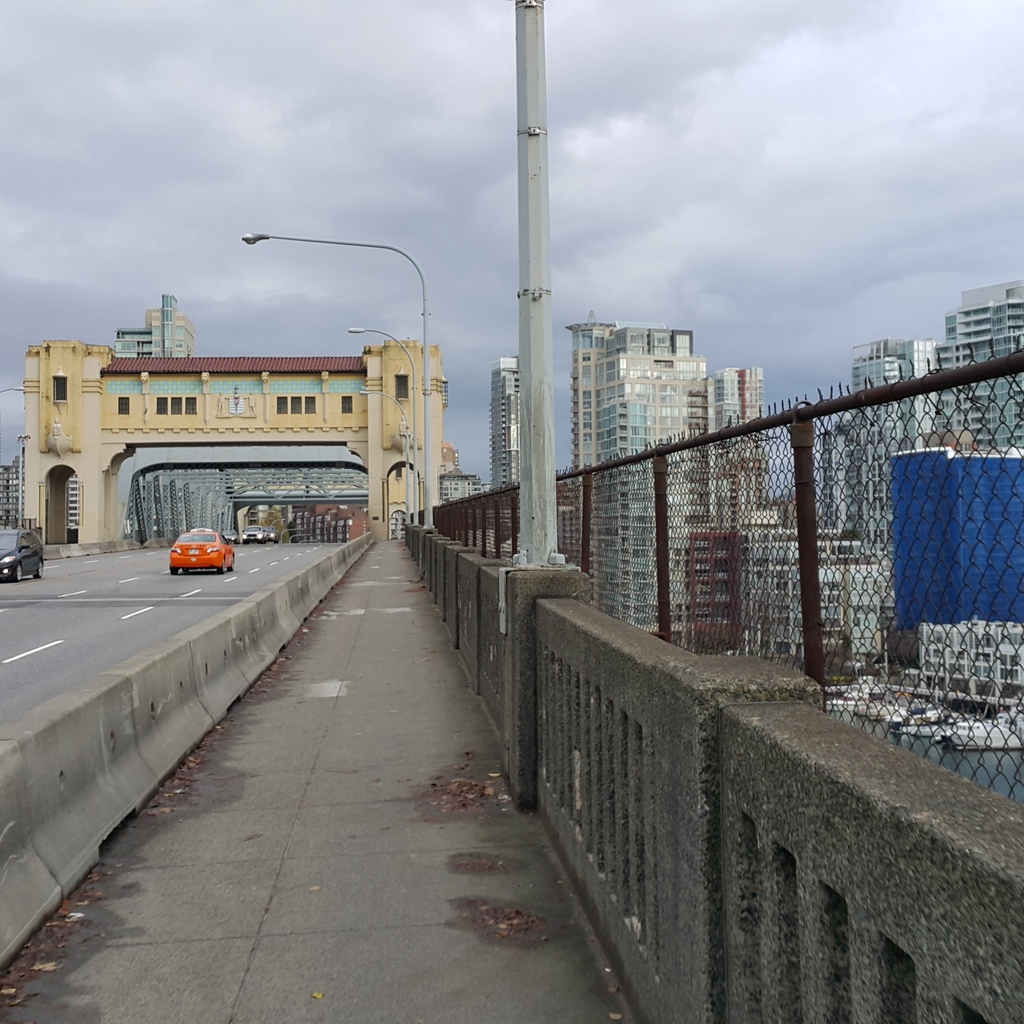Car: (170, 529, 232, 574), (0, 532, 42, 584), (241, 526, 263, 543), (263, 529, 277, 545), (222, 531, 236, 543)
